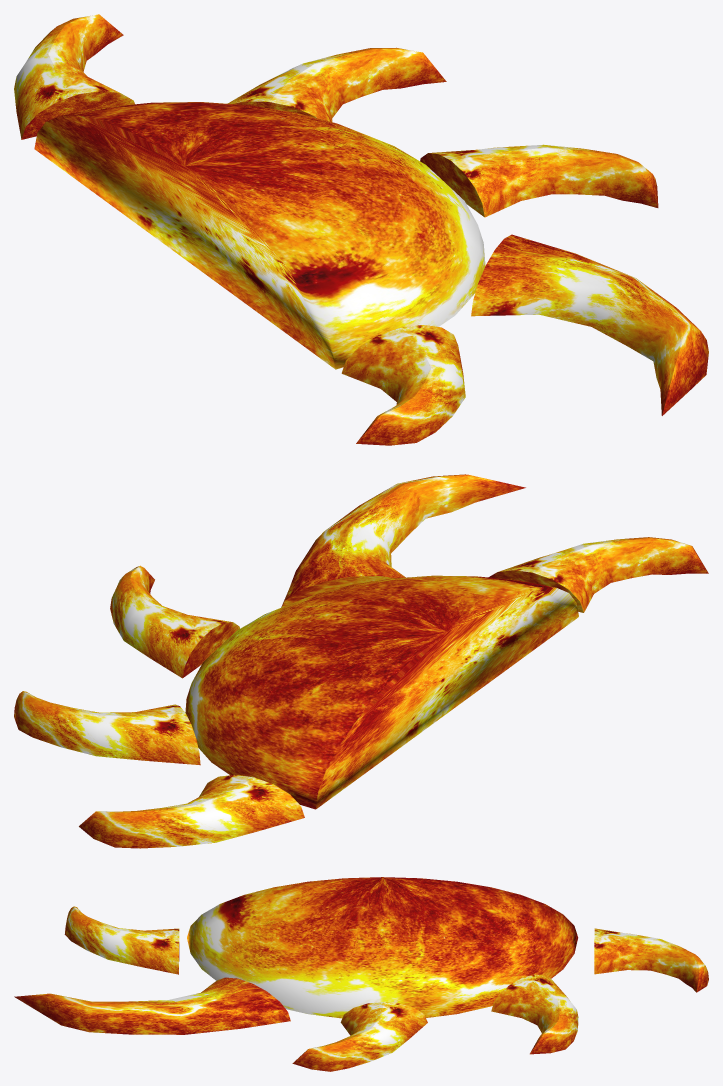
Rendered from sun2.FBX.
The picture shows the model from 3 angles, top to bottom: view 1: azimuth 30°, elevation 25°; view 2: azimuth 150°, elevation 25°; view 3: azimuth 270°, elevation 25°; orthographic projection. The views are drawn at different scales.
Parts seen in each view (by area): view 1: Sun_2; view 2: Sun_2; view 3: Sun_2.
Part boxes in pixels (x1,y1,x2,y2): Sun_2: [14, 14, 708, 445]; Sun_2: [14, 474, 708, 848]; Sun_2: [14, 877, 708, 1071].
Size of the model in its own units: 155 by 28.82 by 295.
Materials: 1 (1 with a texture image).
